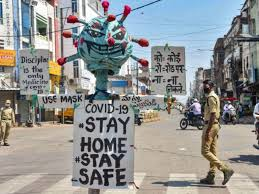mask: (200, 77, 215, 97), (3, 100, 11, 109)
